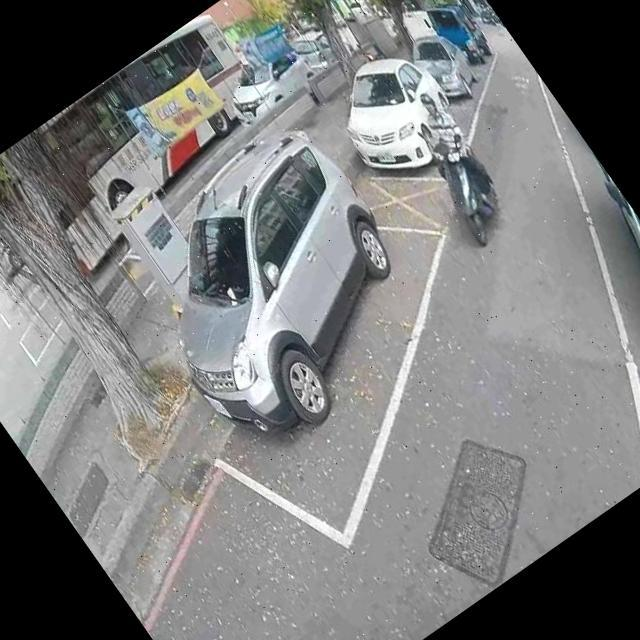person: (393, 83, 510, 225)
